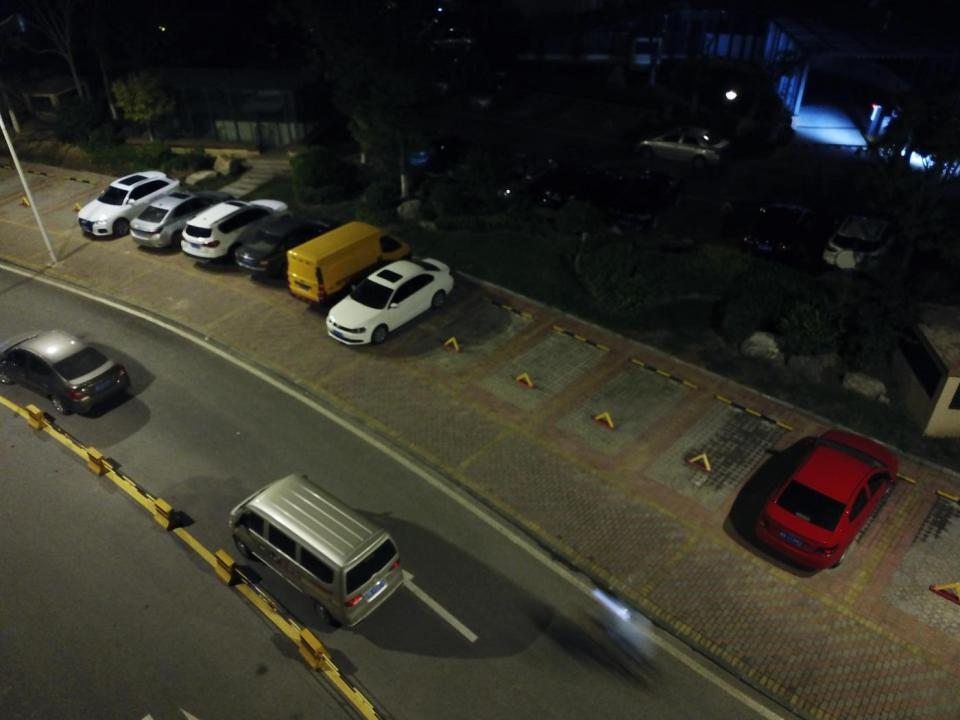car: (754, 430, 898, 572), (326, 258, 454, 348), (0, 329, 131, 416), (182, 197, 288, 266), (78, 170, 179, 240), (235, 214, 340, 278), (128, 190, 237, 249), (744, 200, 826, 264), (822, 213, 899, 278), (636, 123, 732, 170), (608, 171, 682, 230), (494, 154, 558, 202), (540, 165, 596, 210), (408, 135, 474, 172), (467, 70, 525, 112), (422, 27, 477, 52)
van: (227, 473, 405, 630), (285, 222, 412, 309)
